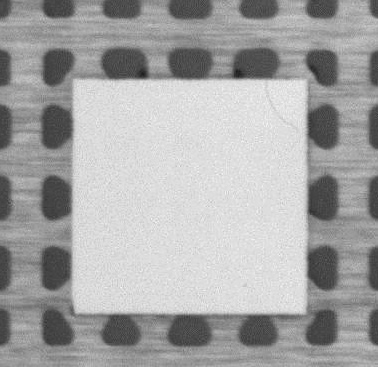DIE_CRACK: (264, 82, 298, 134)
